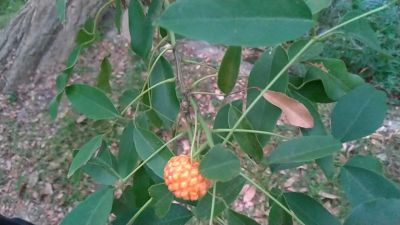eggs: (163, 153, 213, 204)
